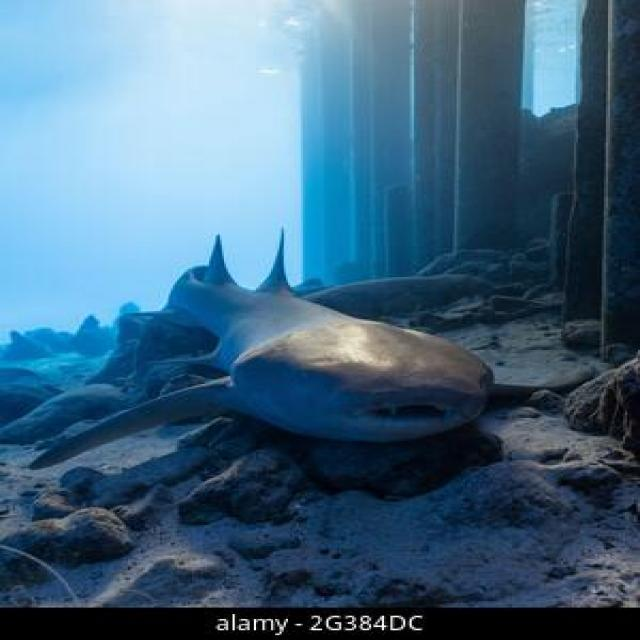Shark: (98, 210, 548, 484)
